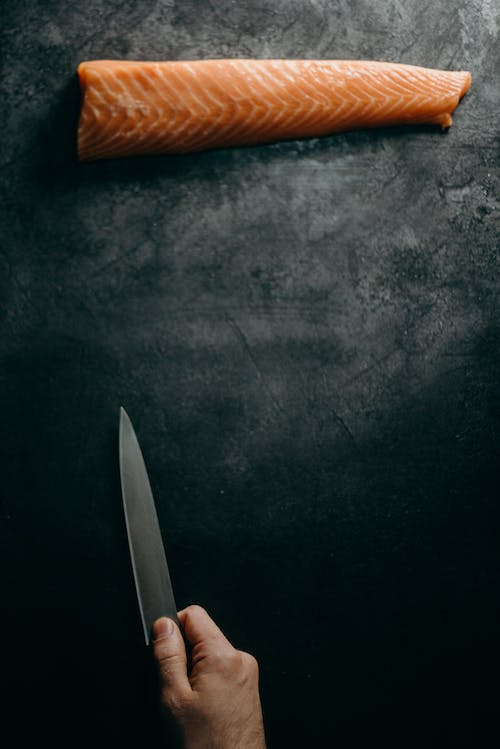knife: (114, 400, 183, 644)
